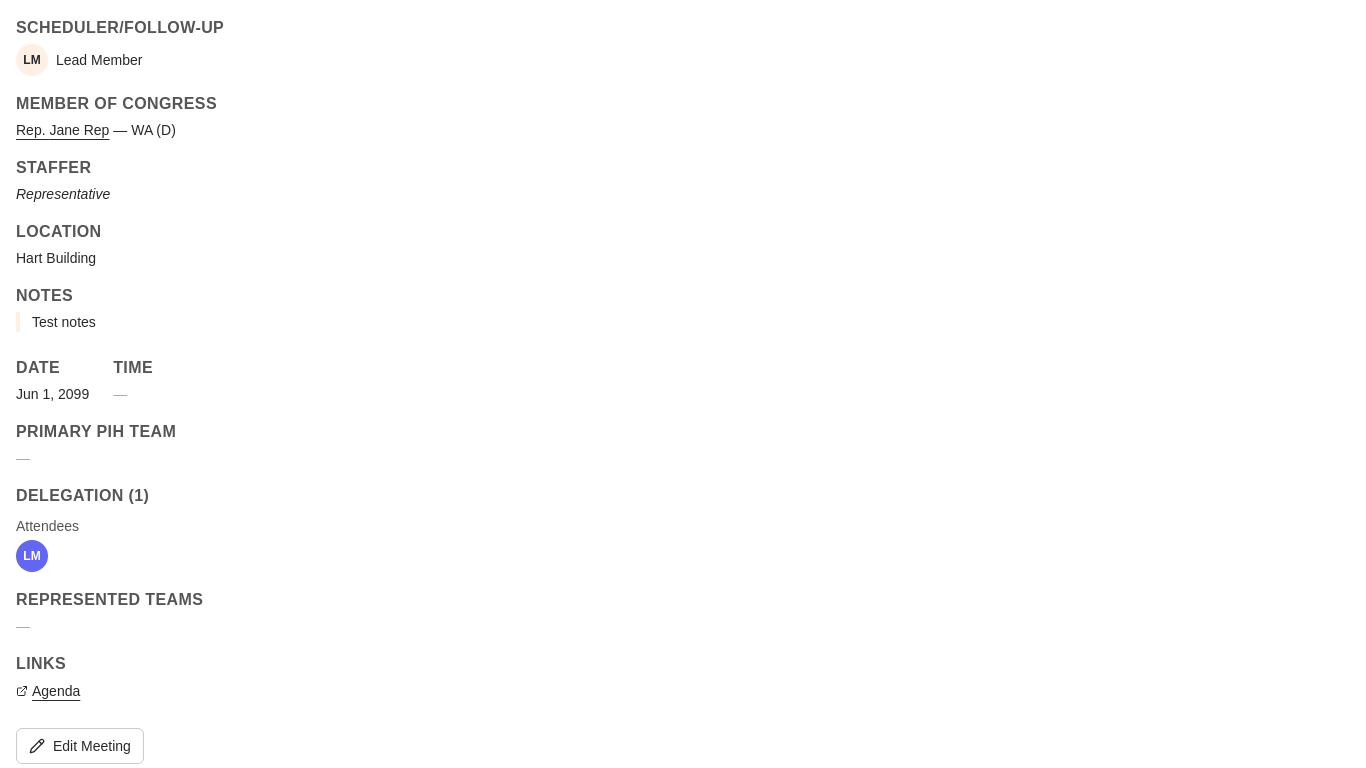
Test case: MeetingDetail — delete › shows a Delete button to the meeting's scheduling lead
Step 1. Click the button "Edit Meeting" → x=80, y=746, box [16,728,144,764]
(page scrolled)
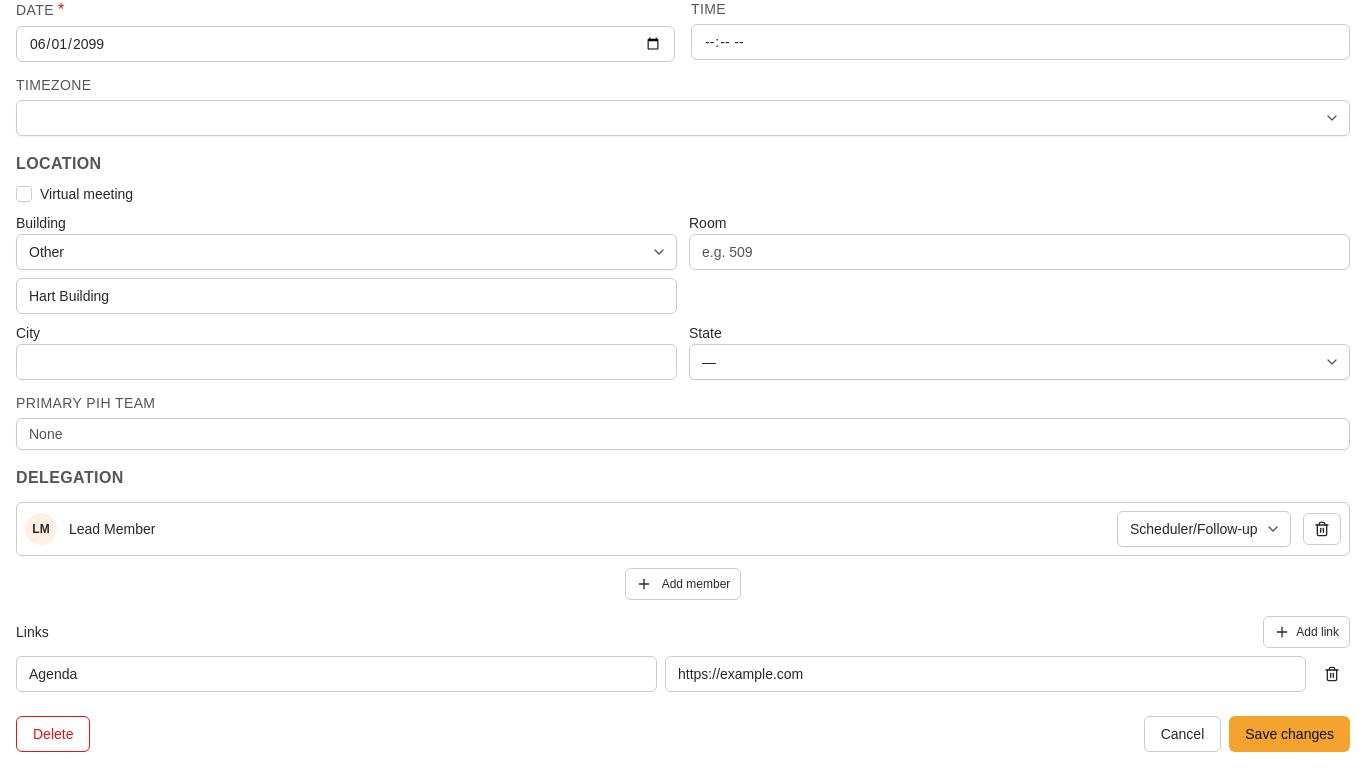
Result: the button "Save changes" is shown at [1229,716,1350,752]
Result: the button "Delete" is shown at [16,716,90,752]
